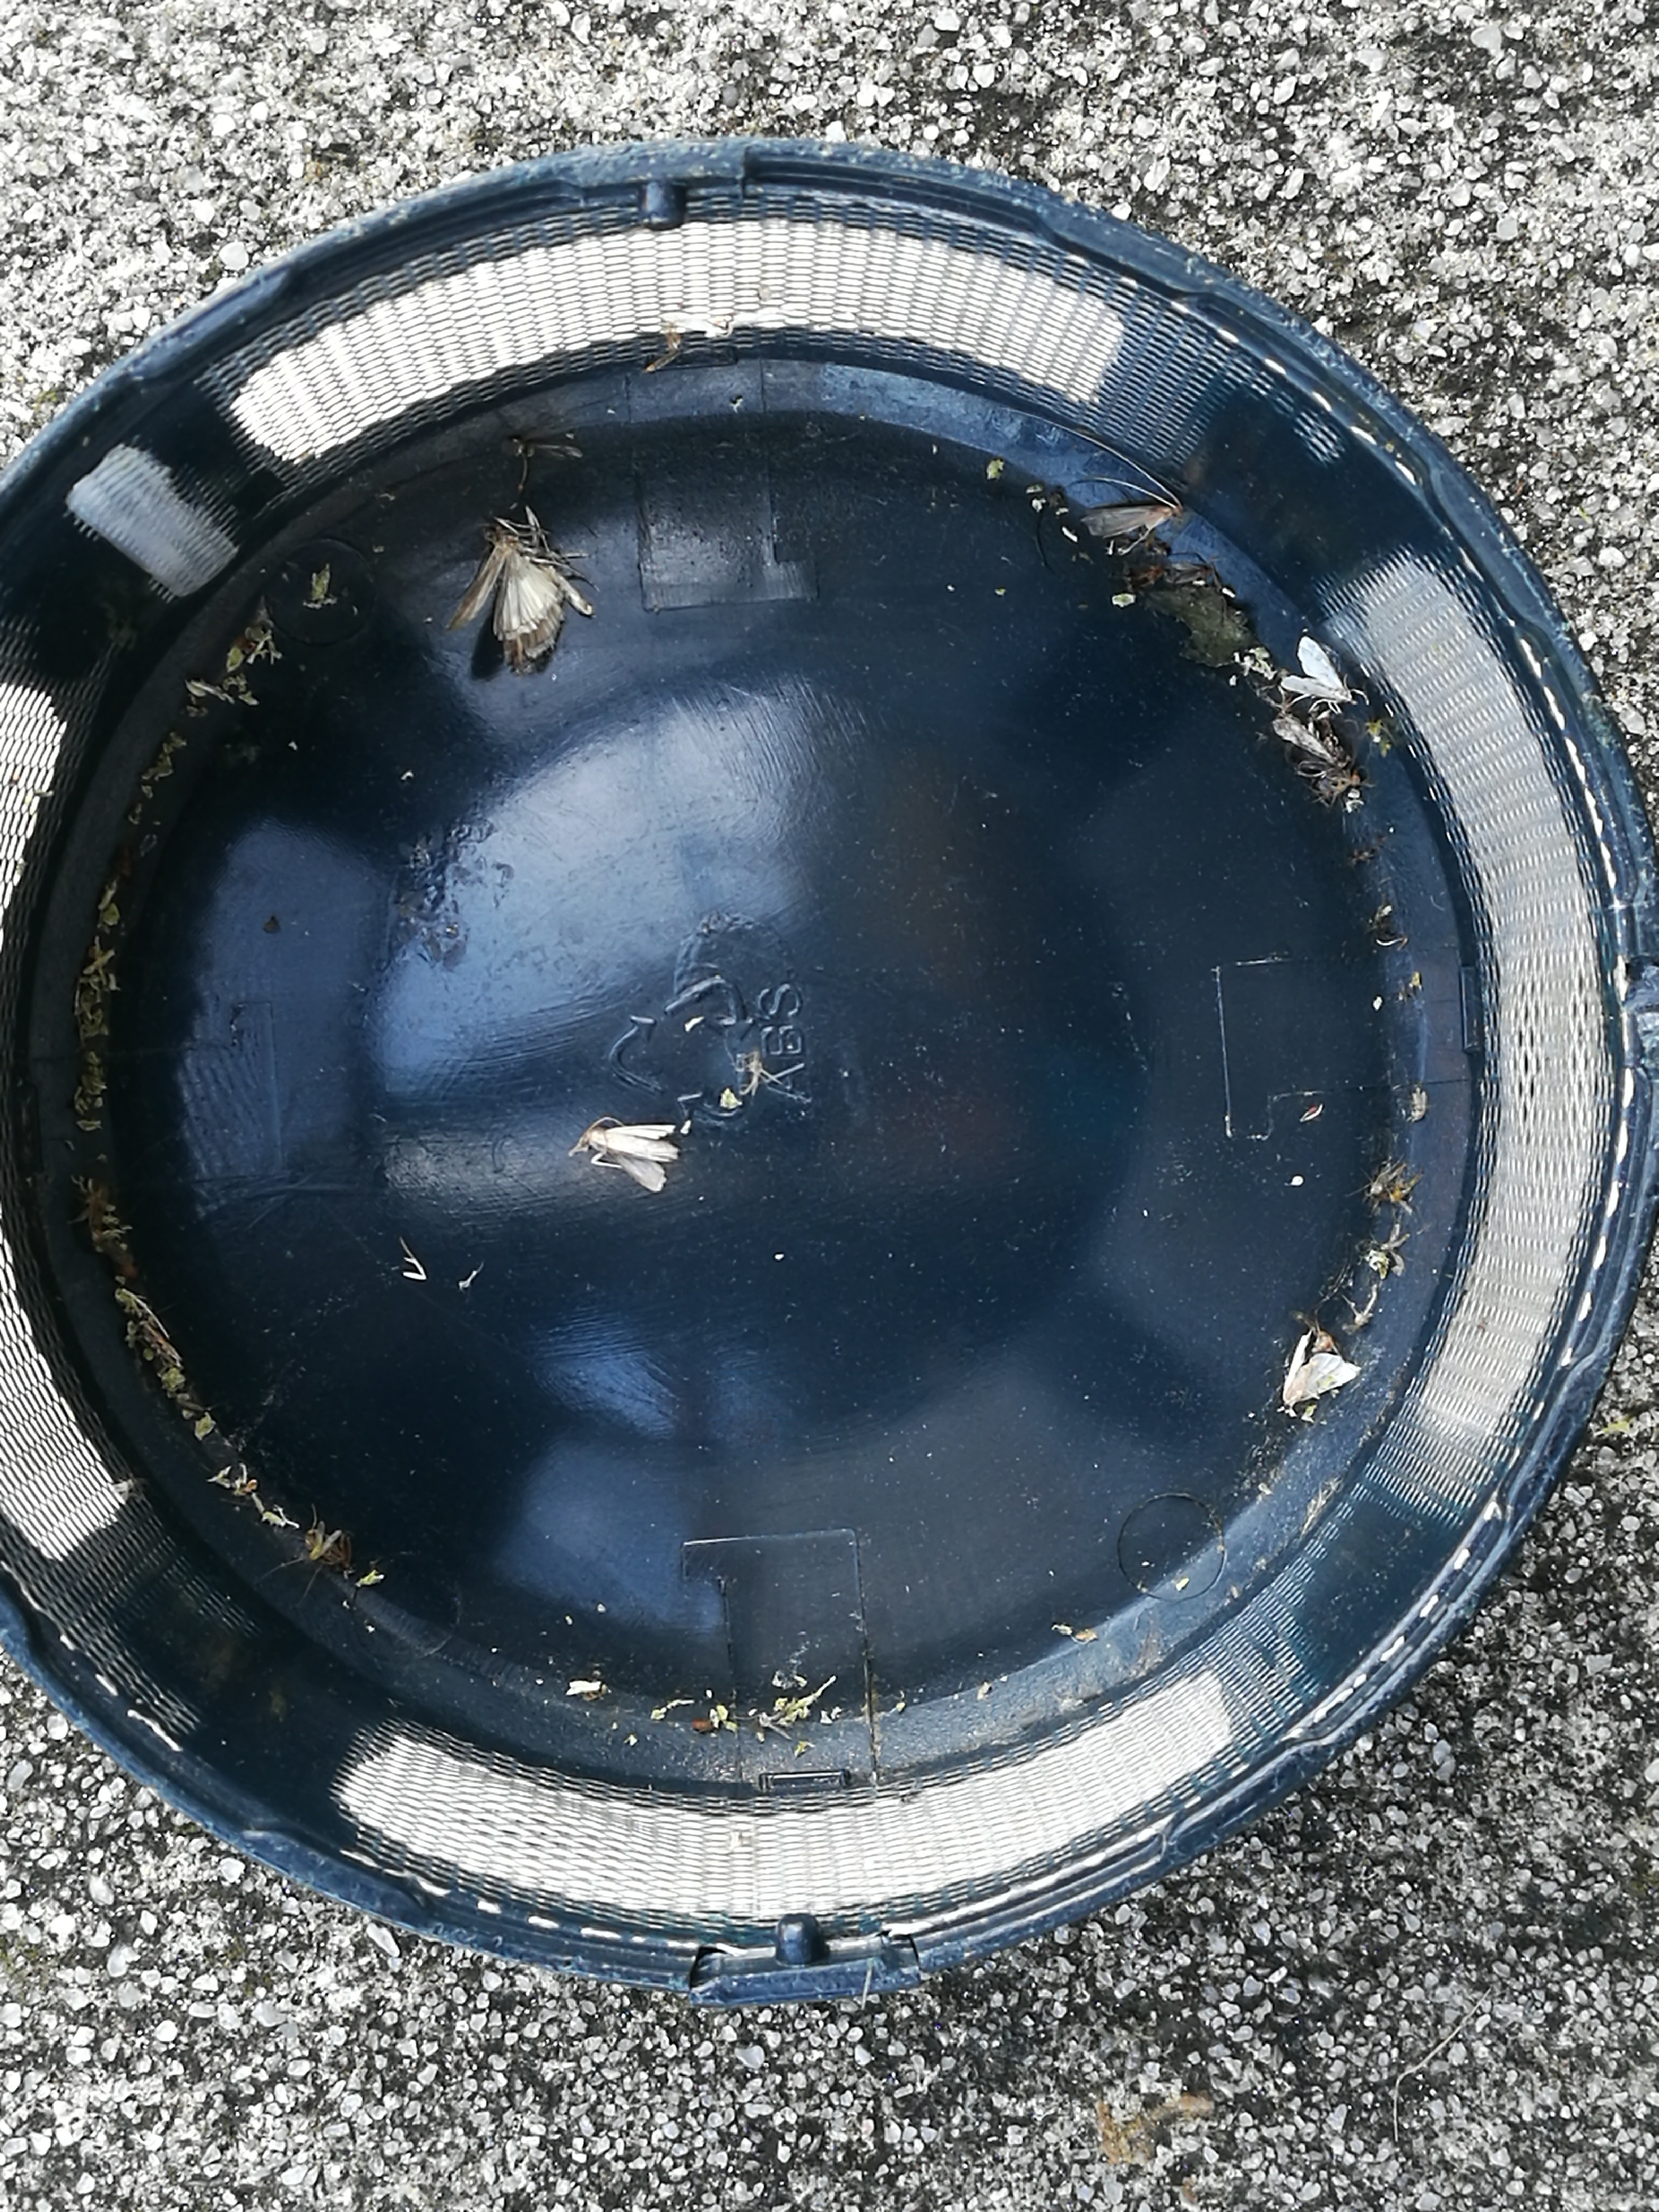mosquito: (1082, 505, 1182, 536), (1274, 718, 1335, 761), (138, 1322, 183, 1367)
moth: (448, 531, 592, 662), (584, 1123, 678, 1195), (1283, 1334, 1359, 1411), (1279, 637, 1351, 704)
